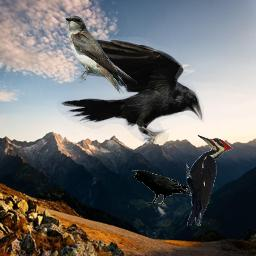Crow: (57, 37, 204, 144), (131, 170, 192, 205)
Swallow: (65, 15, 137, 94)
Woodpecker: (186, 134, 234, 226)
